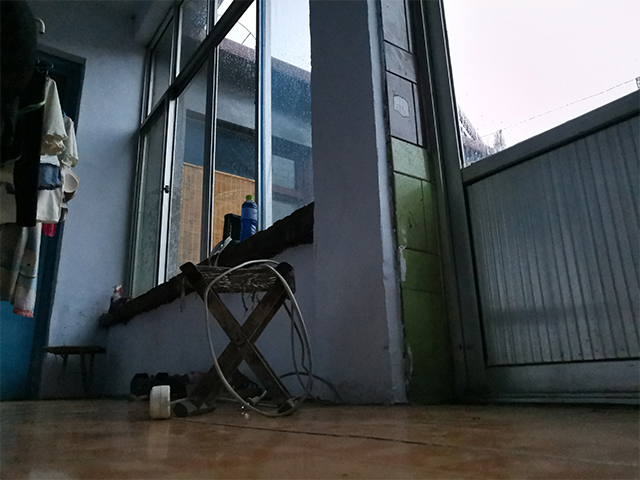stool: (173, 261, 298, 420), (40, 344, 108, 400)
wire: (146, 258, 314, 424)
